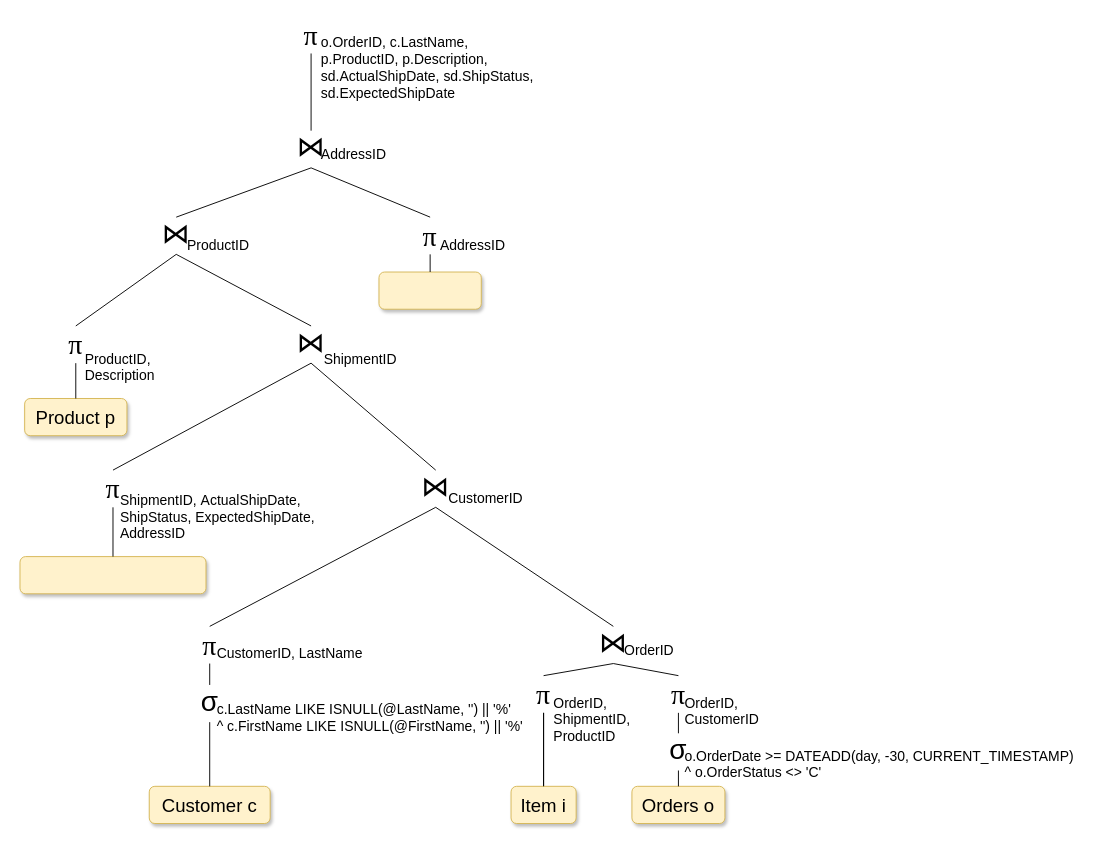
Some shapes in this 1105 by 846 pixel diagram are drawn without their labels. The shapes that lost their labels are listed below. From the top down, each one's centre as x and y in pixels, then its label:
At pixel 430 291: "Address a".
At pixel 113 576: "ShipmentDetails sd".
